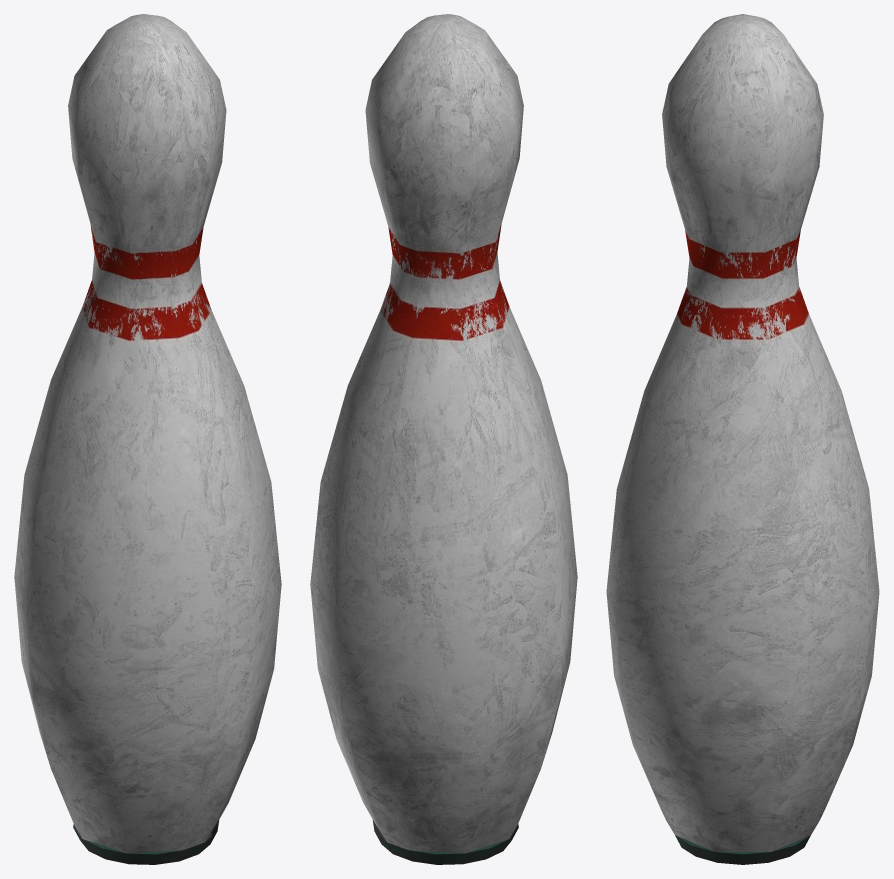
The model's file is Bowing Ball.fbx.
The picture shows the model from 3 angles, left to right: view 1: azimuth 30°, elevation 25°; view 2: azimuth 150°, elevation 25°; view 3: azimuth 270°, elevation 25°; orthographic projection.
Visible parts, largest first — view 1: Bowling_pin; view 2: Bowling_pin; view 3: Bowling_pin.
Boxes of the visible parts, x1,y1,x2,y2 form: Bowling_pin: (14,14,281,864); Bowling_pin: (310,14,577,864); Bowling_pin: (606,14,879,864).
Size of the model in its own units: 97.97 by 337 by 102.
1 material, 1 textured.
